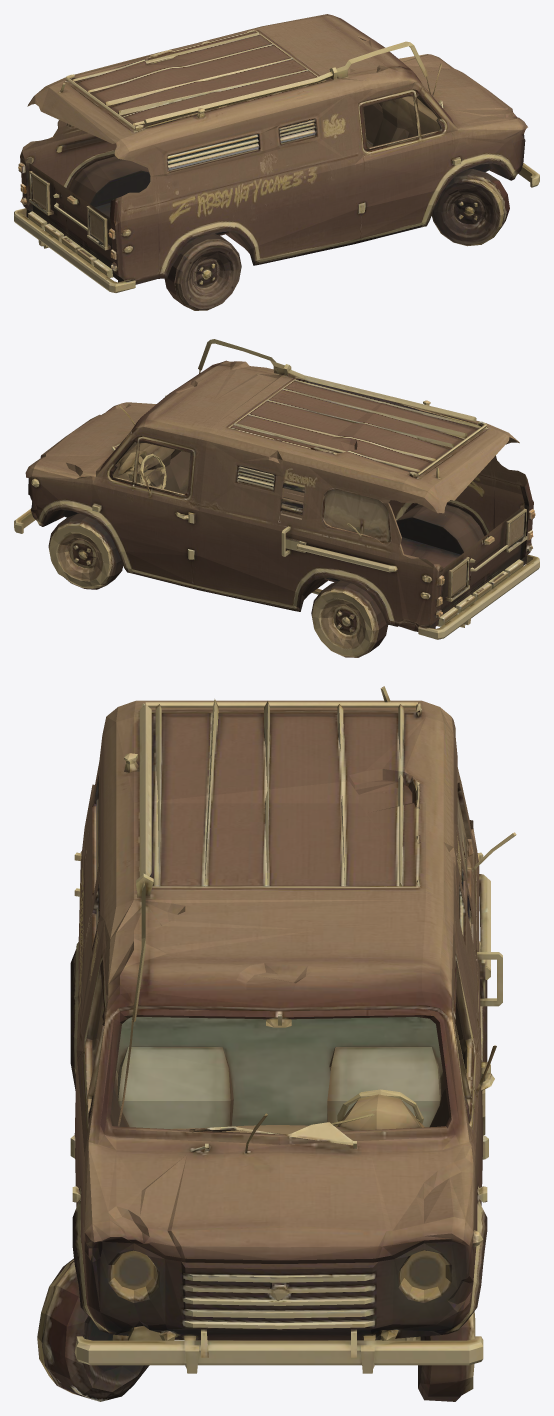
The model's file is burned_truck.glb.
3 views of the same model, one above another, from view 1: azimuth 30°, elevation 25°; view 2: azimuth 150°, elevation 25°; view 3: azimuth 270°, elevation 25° (orthographic). The views are drawn at different scales.
Visible parts, largest first — view 1: tripo_node_c8ec403c-3631-476b-97d6-fed4a152280e; view 2: tripo_node_c8ec403c-3631-476b-97d6-fed4a152280e; view 3: tripo_node_c8ec403c-3631-476b-97d6-fed4a152280e.
Boxes of the visible parts, bbox=[...] form: tripo_node_c8ec403c-3631-476b-97d6-fed4a152280e: bbox=[14, 14, 539, 310]; tripo_node_c8ec403c-3631-476b-97d6-fed4a152280e: bbox=[14, 339, 539, 657]; tripo_node_c8ec403c-3631-476b-97d6-fed4a152280e: bbox=[37, 686, 516, 1401].
Size of the model in its own units: 0.998 by 0.4512 by 0.4746.
1 material, 1 textured.
